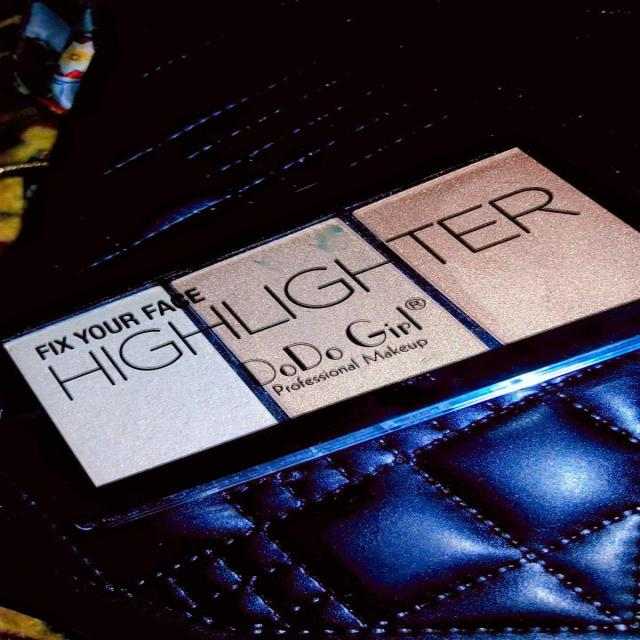highlighter: (126, 216, 477, 418), (350, 142, 640, 334), (0, 298, 284, 469)
